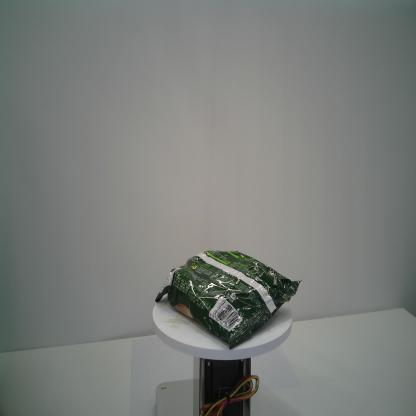Instant Noodles: (154, 245, 303, 351)
